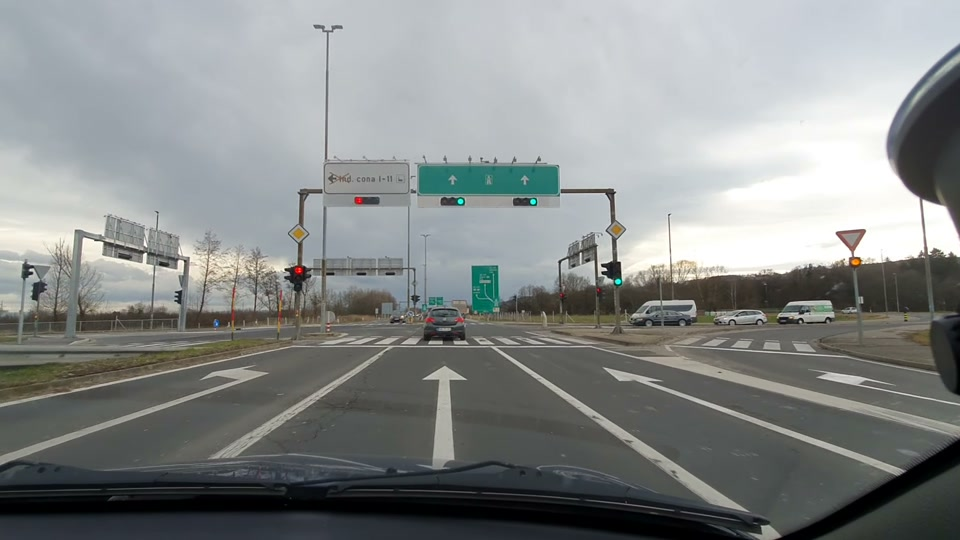vehicle_ign: (417, 299, 470, 347)
vehicle_r: (633, 297, 699, 323), (776, 298, 836, 326), (630, 308, 696, 330), (712, 307, 765, 324)
